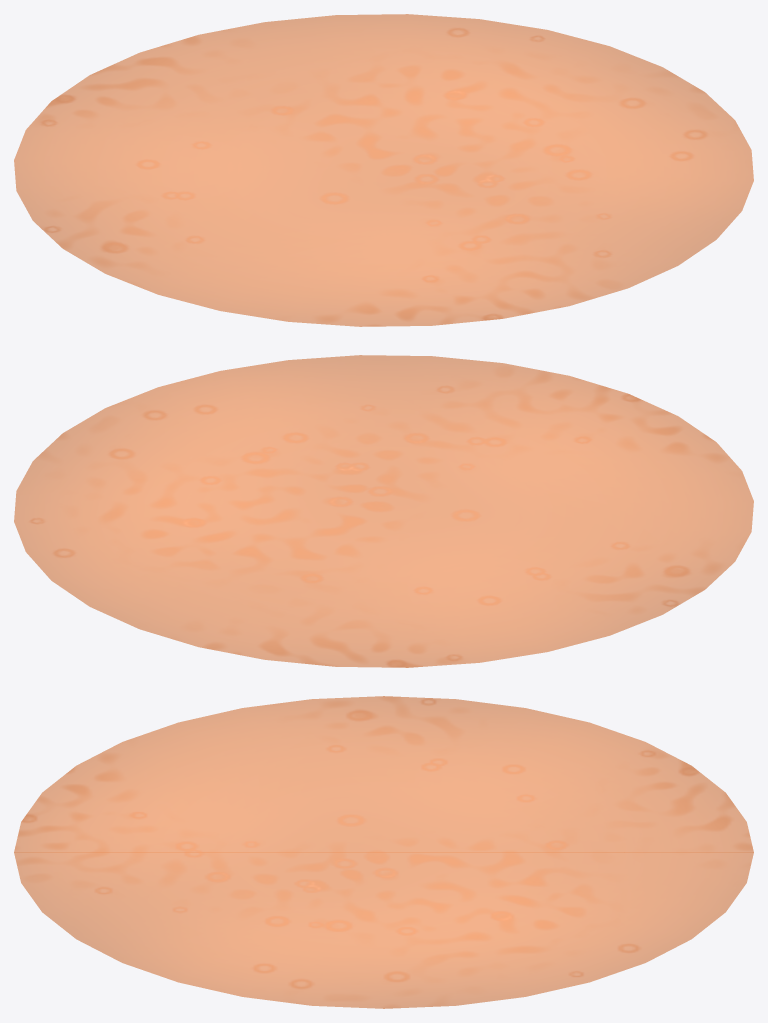
The model's file is mm7_deco_7dec32_liquid_orange.glb.
3 views of the same model, one above another, from view 1: azimuth 30°, elevation 25°; view 2: azimuth 150°, elevation 25°; view 3: azimuth 270°, elevation 25° (orthographic).
Parts seen in each view (by area): view 1: Liquid; view 2: Liquid; view 3: Liquid.
Boxes of the visible parts, x1,y1,x2,y2 form: Liquid: (14,14,753,326); Liquid: (14,355,753,667); Liquid: (14,696,753,1008).
Bounding box in the file's own units: 0.727 × 0 × 0.727.
1 material, 1 textured.
